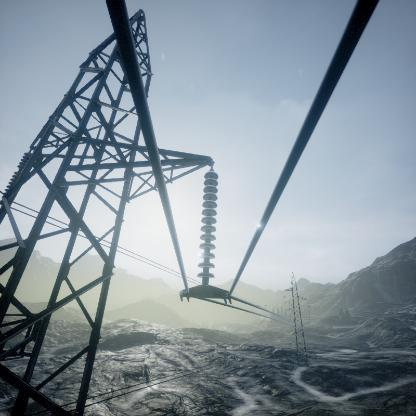insulator: (197, 167, 228, 283)
tower: (280, 270, 312, 357)
